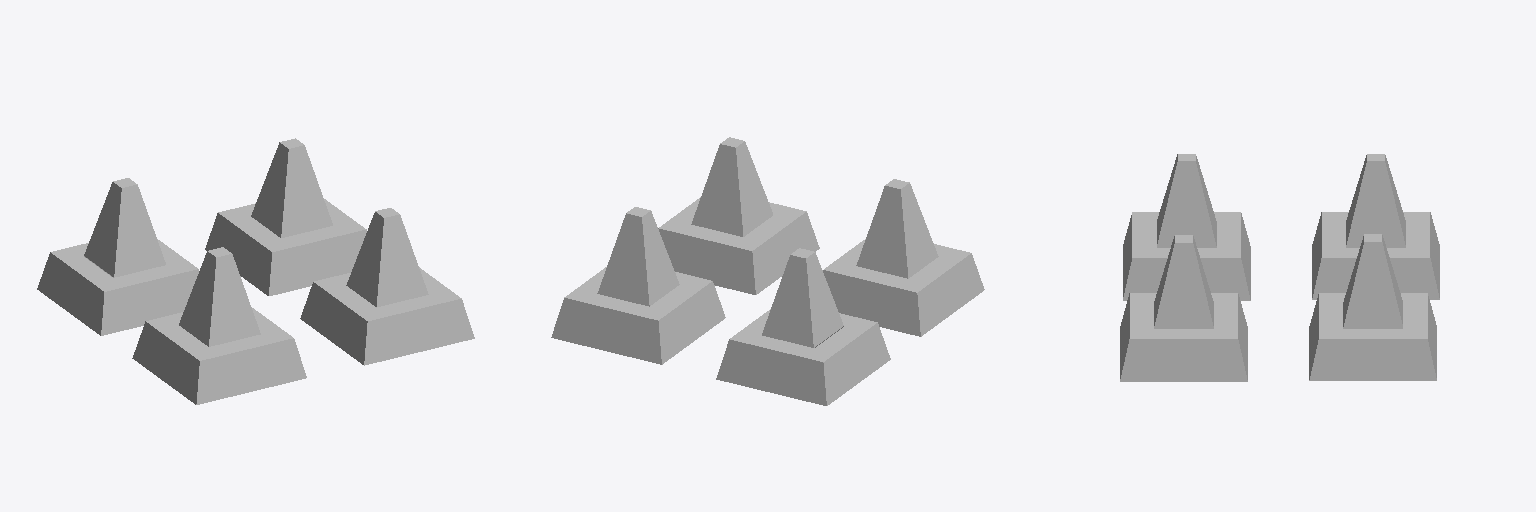
File: trap.obj
3 renders of one model, left to right at view 1: azimuth 30°, elevation 25°; view 2: azimuth 150°, elevation 25°; view 3: azimuth 270°, elevation 25°, orthographic.
Visible parts, largest first — view 1: trap, spikes; view 2: trap, spikes; view 3: trap, spikes.
Part boxes in pixels (bbox=[...]): trap: bbox=[37, 199, 474, 404]; spikes: bbox=[84, 138, 428, 346]; trap: bbox=[551, 197, 984, 405]; spikes: bbox=[597, 137, 938, 347]; trap: bbox=[1120, 212, 1439, 381]; spikes: bbox=[1154, 154, 1405, 328].
Bounding box in the file's own units: 0.6392 × 0.255 × 0.6375.